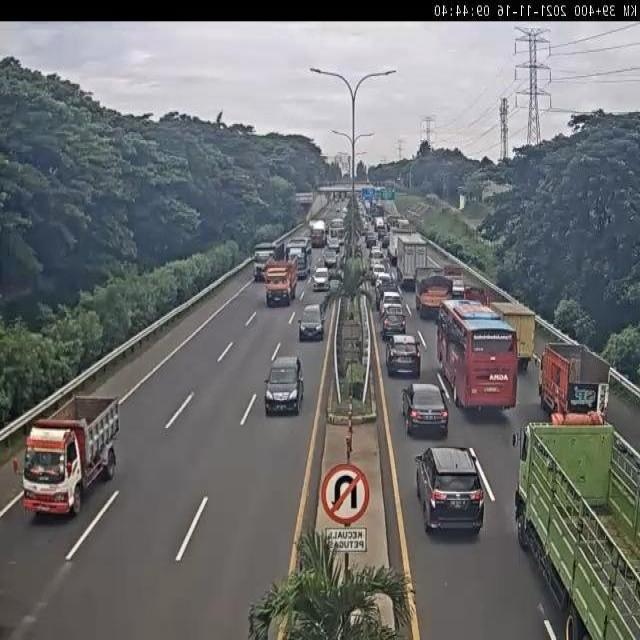Bus: (436, 298, 518, 418), (284, 236, 314, 280)
Car: (414, 445, 484, 535), (401, 382, 448, 440), (264, 354, 305, 416), (385, 334, 421, 377), (379, 301, 407, 340), (298, 303, 325, 343), (380, 289, 402, 316), (311, 266, 330, 291), (374, 271, 394, 292), (323, 247, 339, 269), (372, 263, 386, 284), (326, 237, 340, 257), (377, 226, 388, 241), (366, 233, 376, 249), (381, 233, 390, 248)
Truck: (509, 410, 640, 640), (21, 393, 120, 515), (539, 341, 610, 422), (490, 301, 536, 373), (413, 266, 454, 320), (262, 254, 300, 307), (395, 232, 429, 286), (252, 242, 278, 282), (388, 225, 414, 264), (442, 264, 467, 297), (462, 285, 490, 308), (310, 218, 328, 248), (329, 217, 346, 245), (373, 216, 386, 232)
Van: (368, 247, 384, 269)
